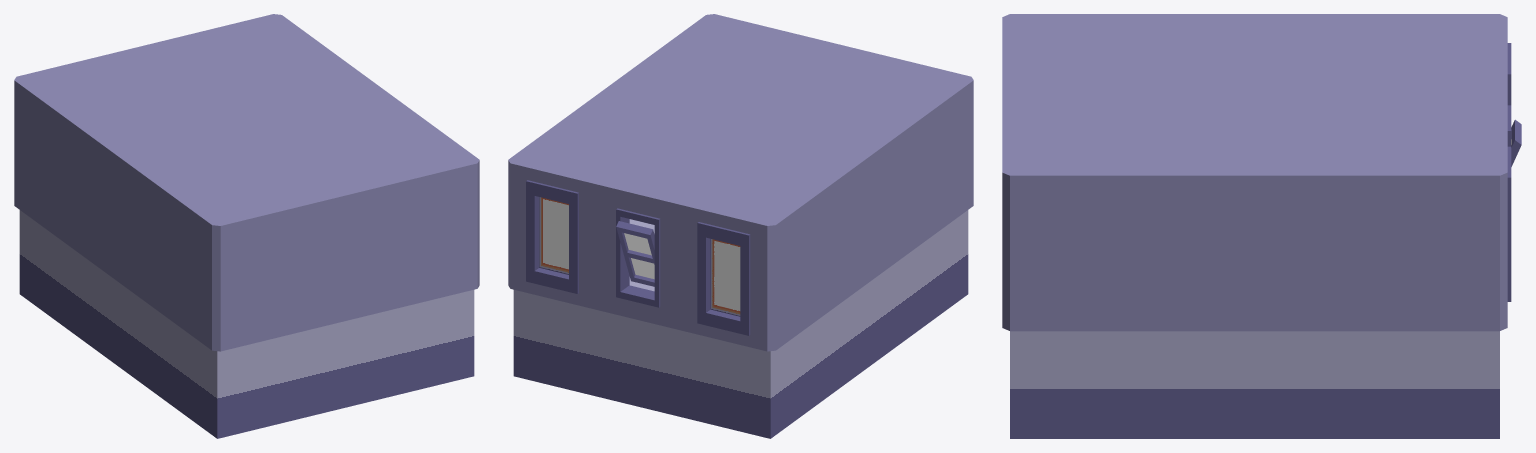
File: birthday.obj
3 renders of one model, left to right at view 1: azimuth 30°, elevation 25°; view 2: azimuth 150°, elevation 25°; view 3: azimuth 270°, elevation 25°, orthographic. The views are drawn at different scales.
Visible parts, largest first — view 1: wall, roof_flat, floor, window_closed, window_open; view 2: roof_flat, floor, wall, window_closed, window_open; view 3: wall, roof_flat, floor, window_closed, window_open.
Boxes of the visible parts, x1,y1,x2,y2 form: wall: (14, 14, 479, 351); roof_flat: (14, 14, 479, 233); floor: (19, 210, 474, 438); window_closed: (17, 14, 278, 81); window_open: (102, 35, 194, 60); roof_flat: (510, 14, 973, 234); floor: (513, 210, 968, 438); wall: (508, 14, 973, 351); window_closed: (510, 159, 770, 351); window_open: (595, 180, 683, 330); wall: (1002, 14, 1507, 331); roof_flat: (1002, 14, 1507, 175); floor: (1010, 331, 1499, 438); window_closed: (1492, 16, 1511, 301); window_open: (1492, 66, 1521, 166).
Size of the model in its own units: 3.13 by 2.4 by 4.24.
Materials: 1 (1 with a texture image).
